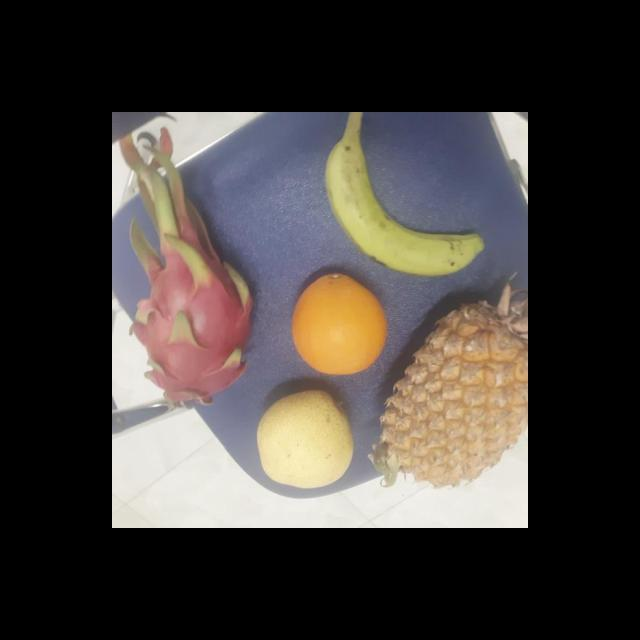banana: (320, 126, 482, 276)
orange: (285, 274, 387, 378)
pear: (252, 392, 356, 490)
pineapple: (378, 297, 528, 491)
pitaya: (133, 249, 253, 405)
